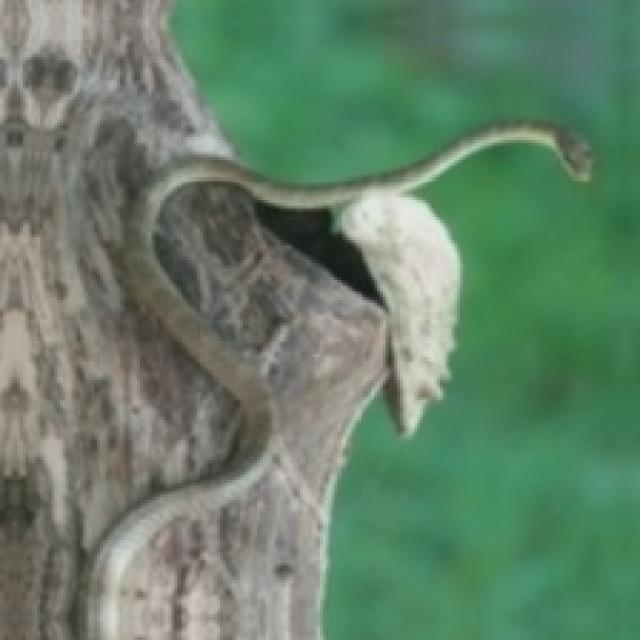paradise tree snake: (0, 0, 589, 637), (86, 123, 591, 637)
